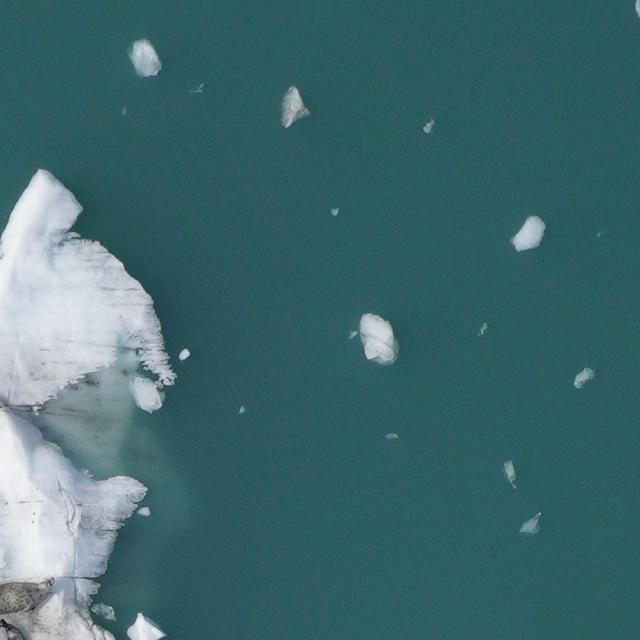seal: (0, 580, 52, 615), (0, 616, 26, 639)
